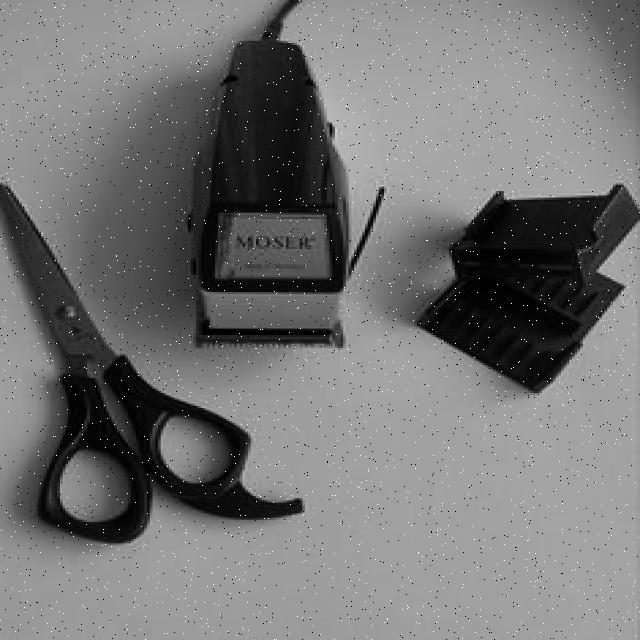scissors: (0, 159, 339, 569)
